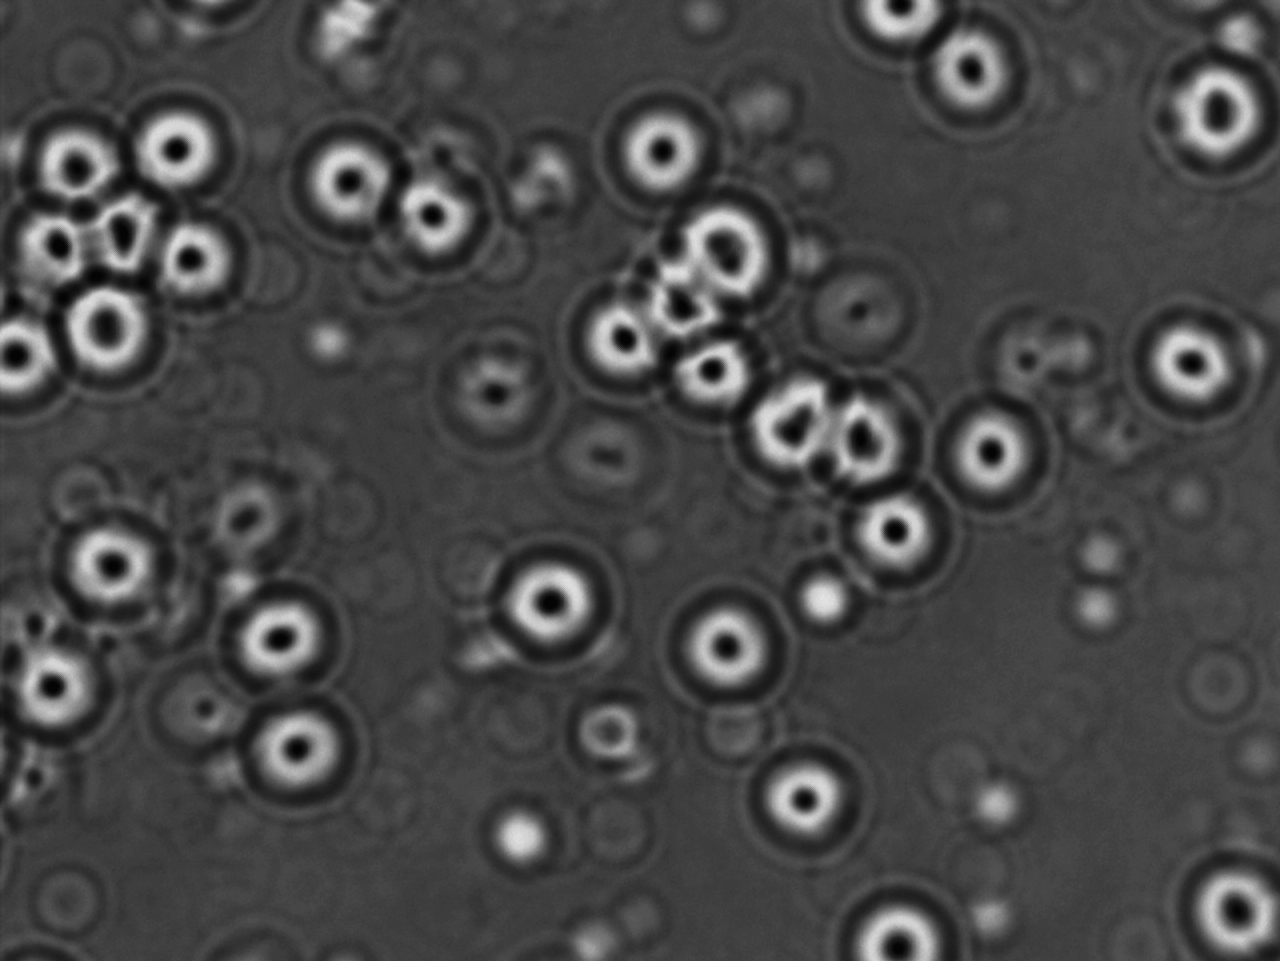depth:16: (485, 540, 628, 671), (927, 378, 1061, 510), (1146, 40, 1276, 175), (219, 576, 357, 700), (600, 86, 723, 219), (1136, 301, 1266, 423), (743, 739, 871, 856), (912, 17, 1035, 135), (242, 690, 365, 808), (663, 592, 789, 705), (828, 480, 962, 586), (291, 111, 405, 232), (50, 511, 168, 625), (552, 281, 671, 390), (47, 280, 163, 392), (1171, 845, 1280, 961), (141, 198, 255, 306), (681, 193, 799, 295), (806, 386, 921, 489), (85, 189, 197, 292), (23, 106, 138, 206), (736, 362, 843, 468), (381, 163, 489, 266), (127, 92, 233, 195), (672, 325, 778, 422), (839, 877, 961, 961), (626, 247, 732, 343), (5, 190, 105, 290)
